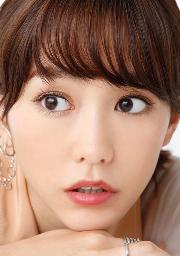face: (16, 85, 170, 227)
